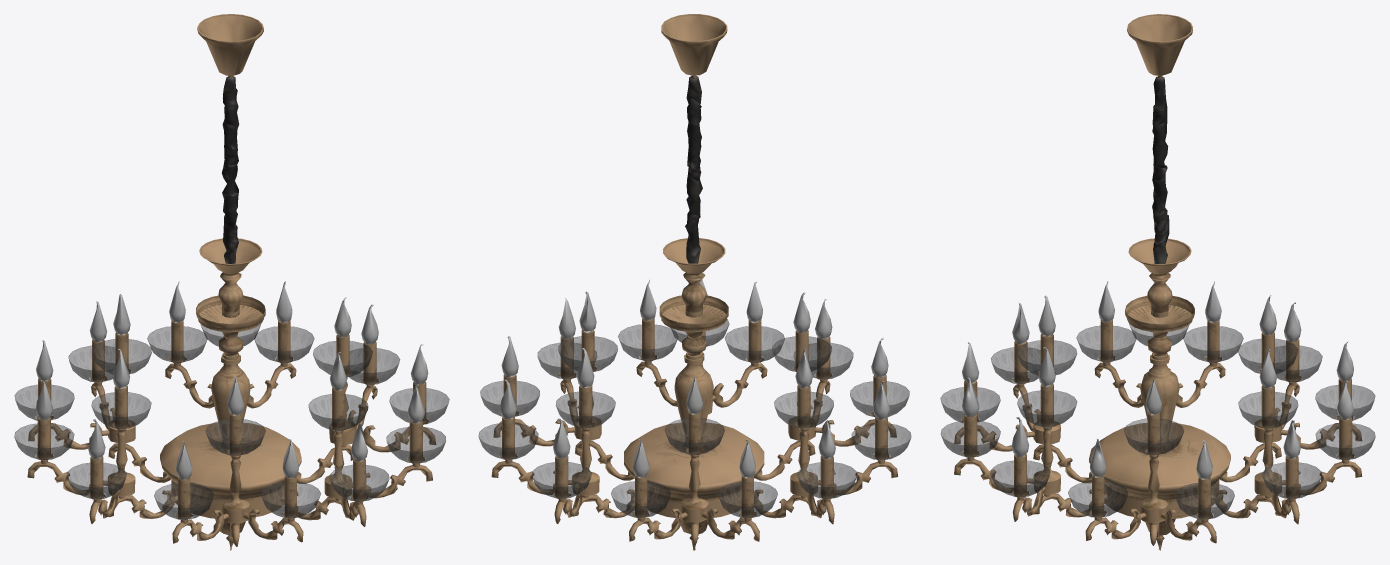
The model's file is Chandelier_03.glb.
3 renders of one model, left to right at view 1: azimuth 30°, elevation 25°; view 2: azimuth 150°, elevation 25°; view 3: azimuth 270°, elevation 25°, orthographic.
Parts seen in each view (by area): view 1: Chandelier_03; view 2: Chandelier_03; view 3: Chandelier_03.
Part boxes in pixels (<box>): Chandelier_03: <box>14,14,449,550</box>; Chandelier_03: <box>478,14,911,550</box>; Chandelier_03: <box>940,14,1375,550</box>.
Bounding box in the file's own units: 0.7804 × 1.04 × 0.7853.
Materials: 2 (2 with a texture image).
